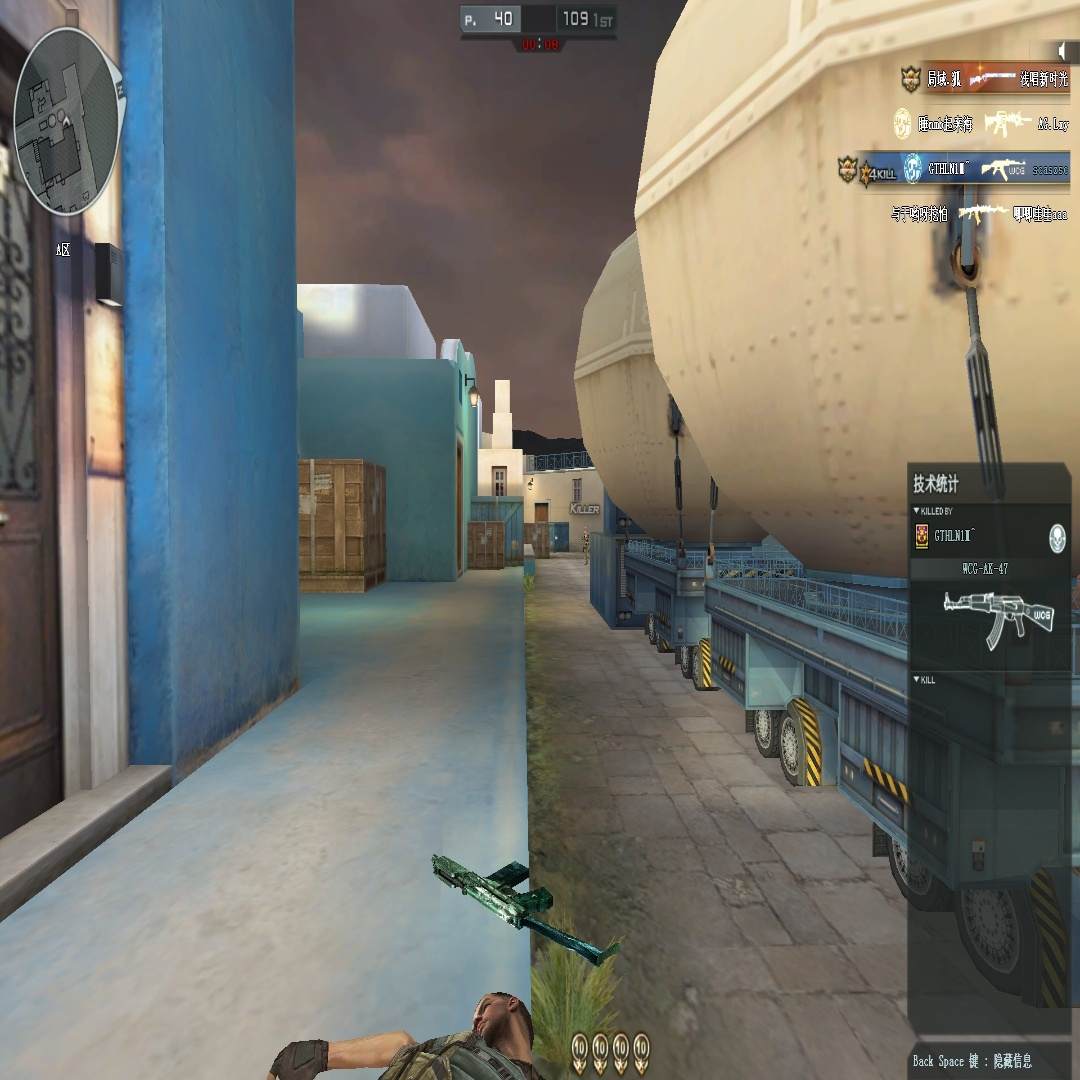p: (582, 530, 588, 562)
